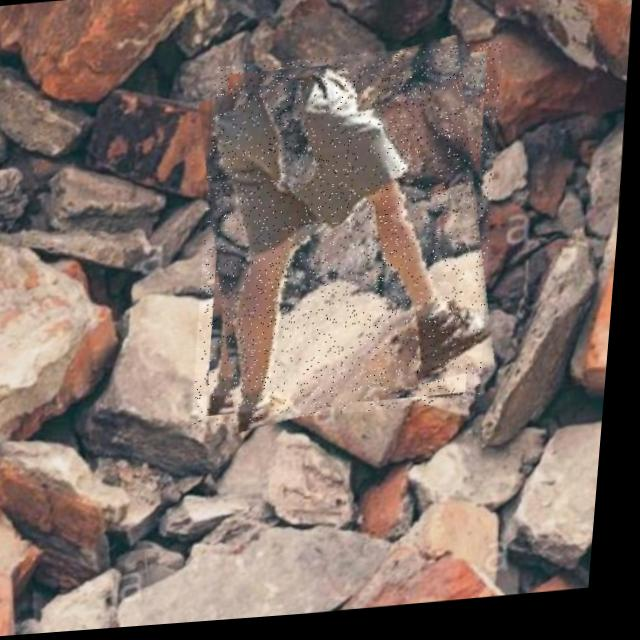Person in Rubble: (193, 48, 509, 431)
